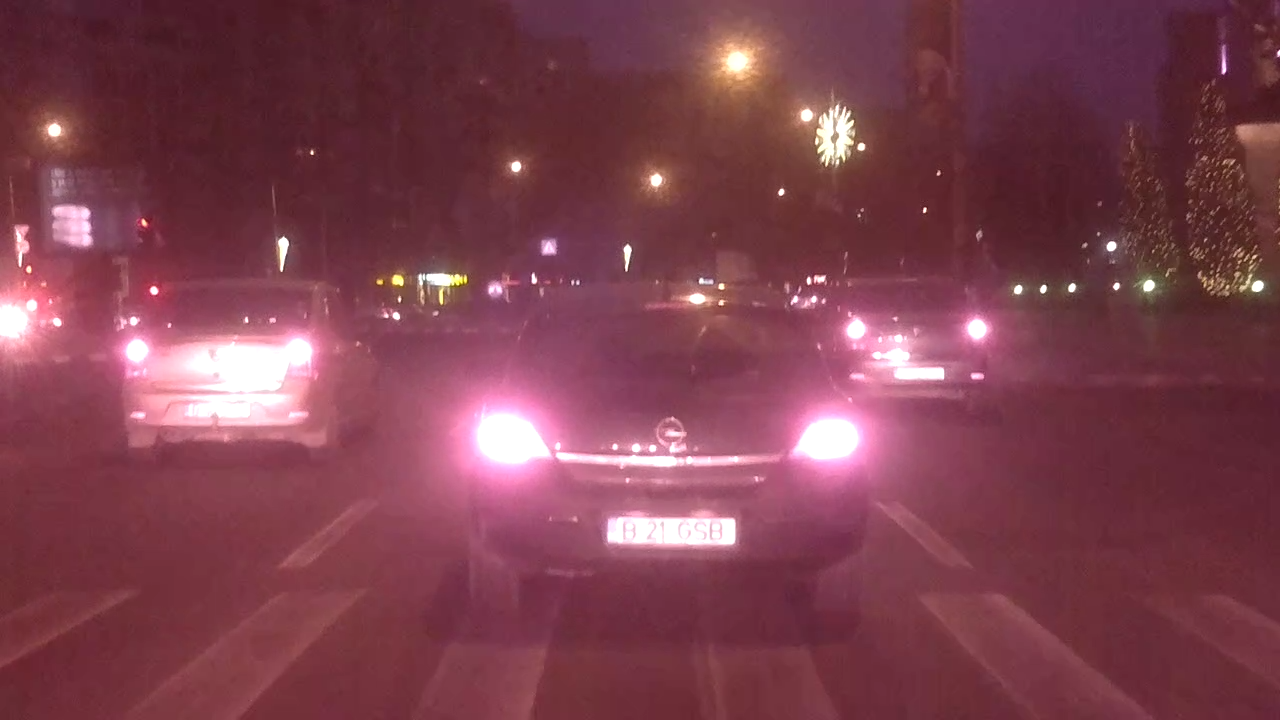license-plate: (601, 513, 741, 549)
